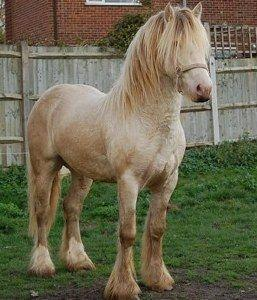horse: (25, 0, 213, 299)
